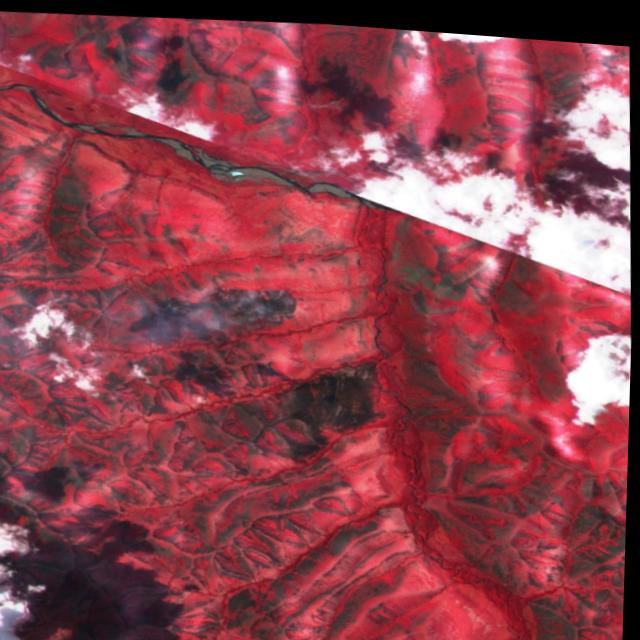fire: (137, 262, 310, 358)
